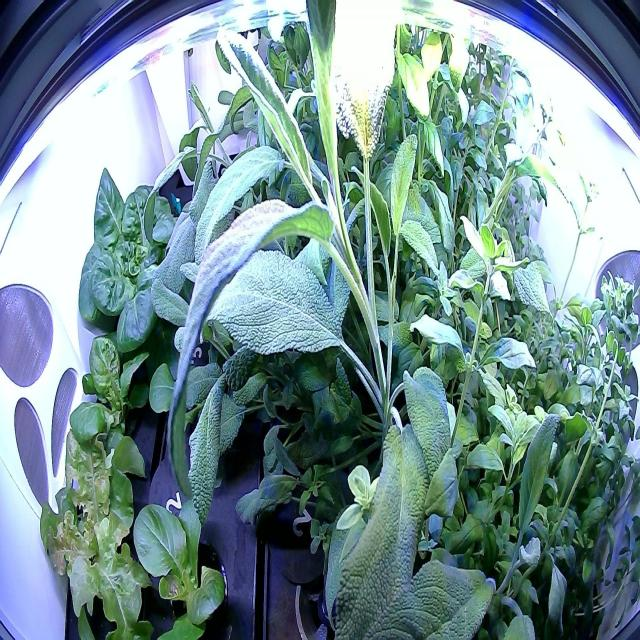Ready: (70, 149, 208, 367)
young: (52, 320, 160, 499), (120, 478, 236, 639)
